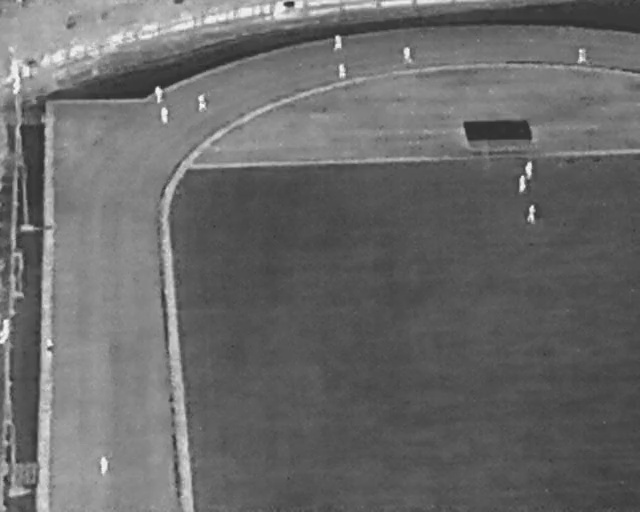Person: (46, 336, 55, 361), (99, 454, 109, 476), (576, 48, 588, 64), (527, 204, 536, 225), (197, 95, 207, 113), (402, 46, 412, 64), (333, 34, 342, 53), (518, 175, 527, 194), (338, 63, 347, 80), (525, 161, 533, 180), (160, 107, 168, 125), (155, 86, 163, 104)
